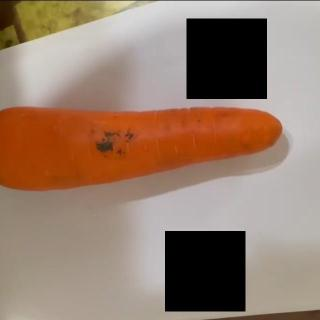carrot: (0, 104, 282, 192)
